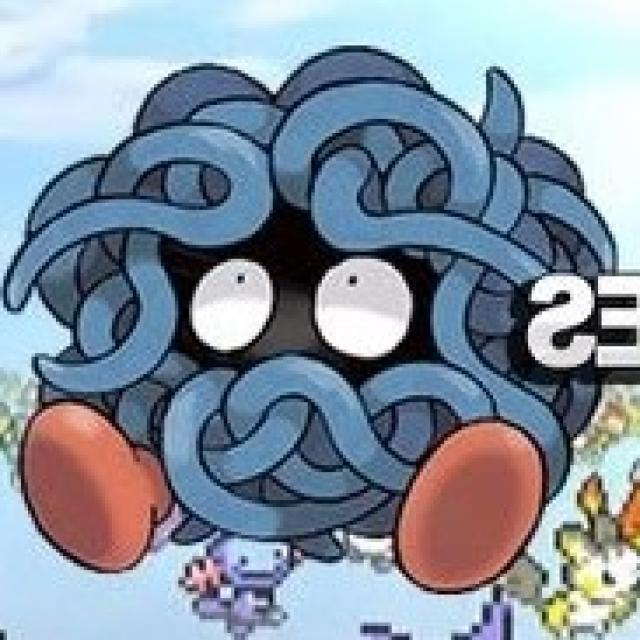Tangela: (0, 75, 613, 574)
